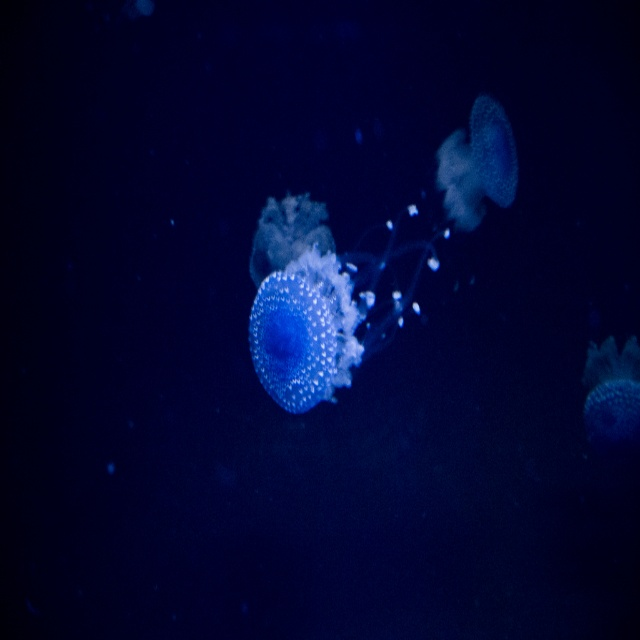Jellyfish: (248, 195, 449, 416), (430, 98, 521, 231), (577, 340, 640, 451)
